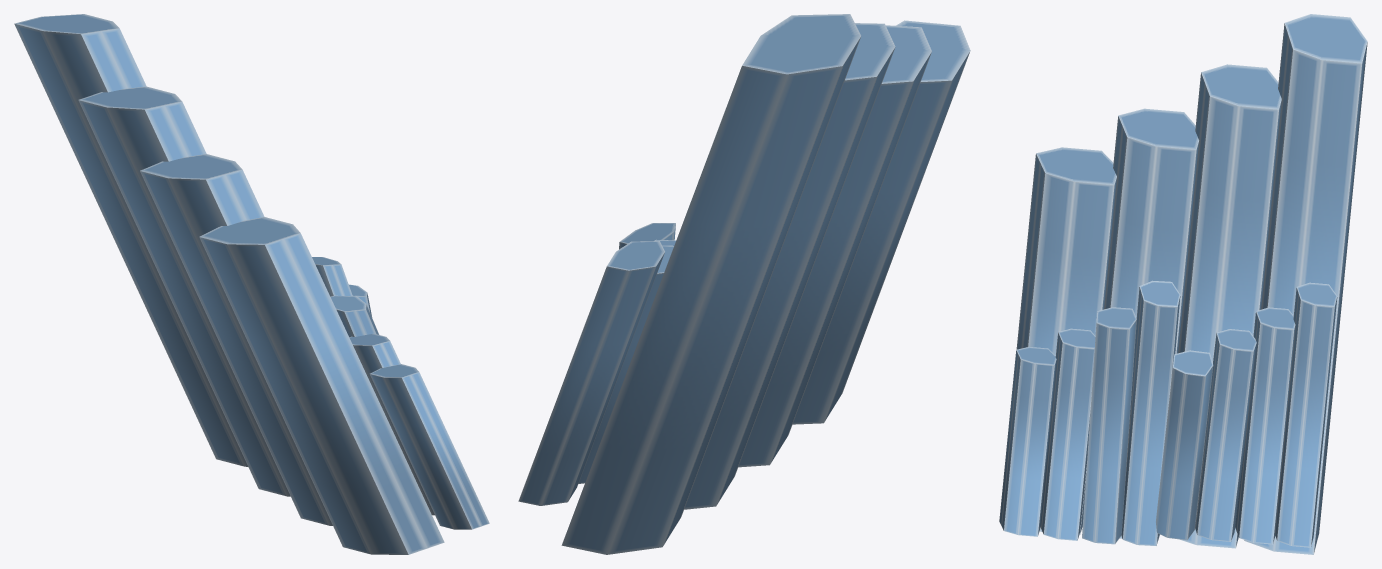
File: wall_crystal_pipes_08.fbx
3 views of the same model, side by side, from view 1: azimuth 30°, elevation 25°; view 2: azimuth 150°, elevation 25°; view 3: azimuth 270°, elevation 25° (orthographic). The views are drawn at different scales.
Parts seen in each view (by area): view 1: wall_crystal_pipes_08; view 2: wall_crystal_pipes_08; view 3: wall_crystal_pipes_08.
Boxes of the visible parts, bbox=[...] form: wall_crystal_pipes_08: bbox=[14, 14, 489, 554]; wall_crystal_pipes_08: bbox=[518, 14, 970, 554]; wall_crystal_pipes_08: bbox=[999, 14, 1367, 554].
Size of the model in its own units: 1.13 by 1.78 by 1.37.
1 material, 1 textured.
